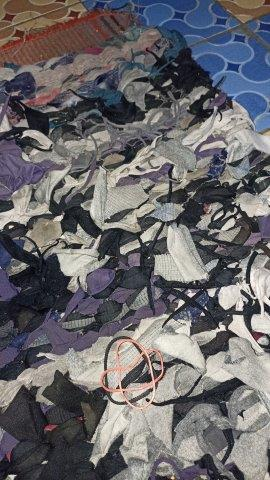karet: (99, 336, 164, 409)
